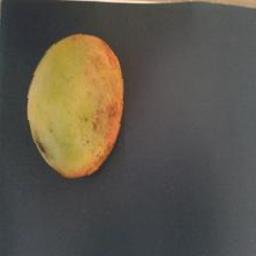Mango Semifresh: (13, 18, 125, 184)
